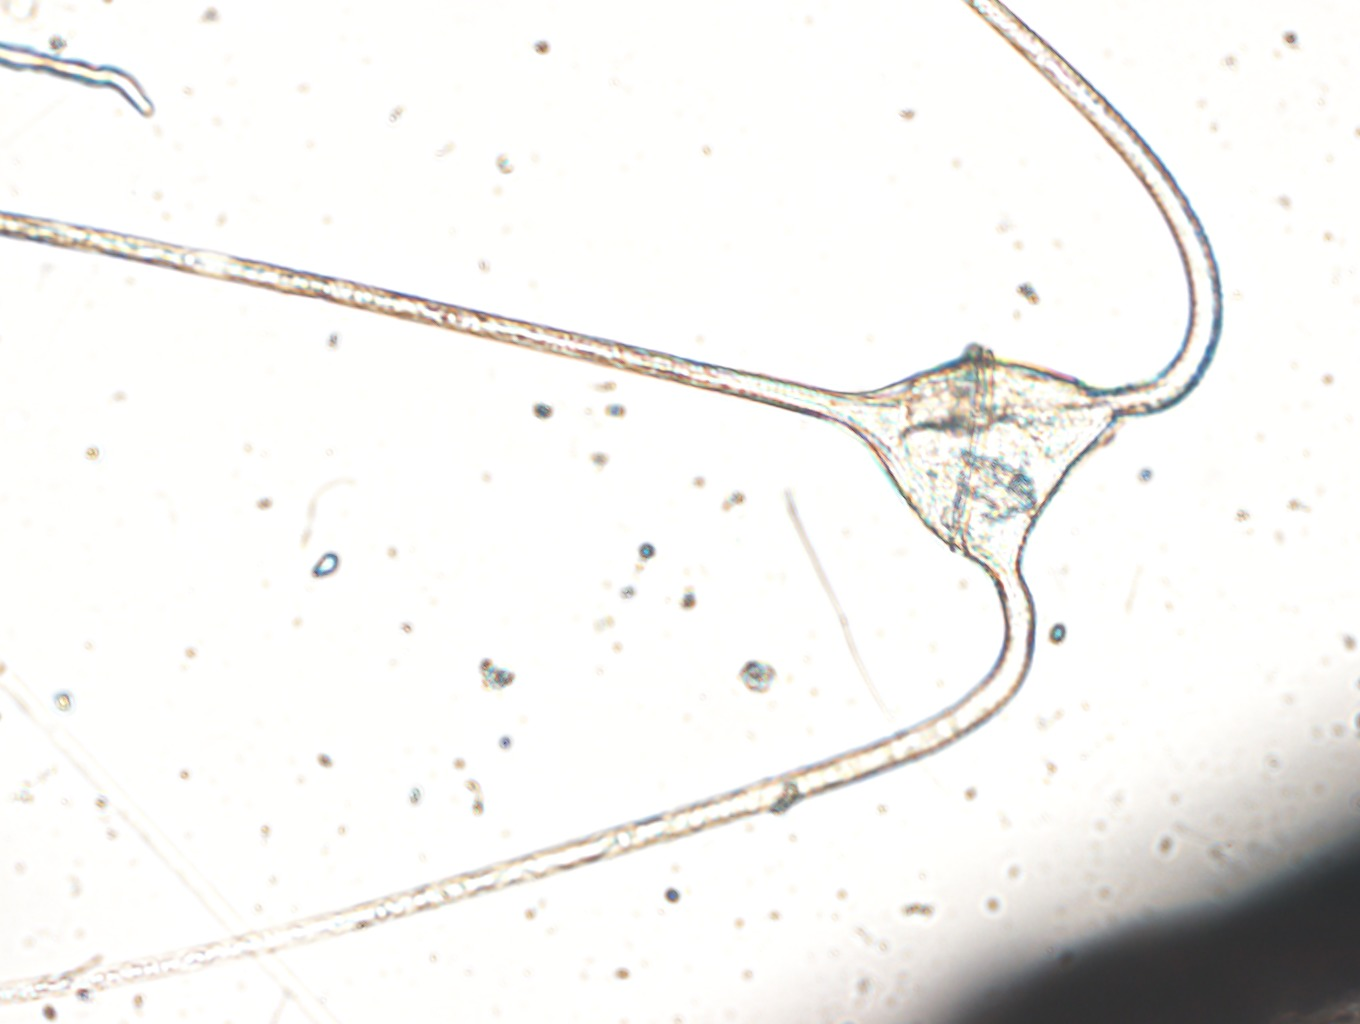ceratium trichoceros: (1, 1, 1227, 1000)
